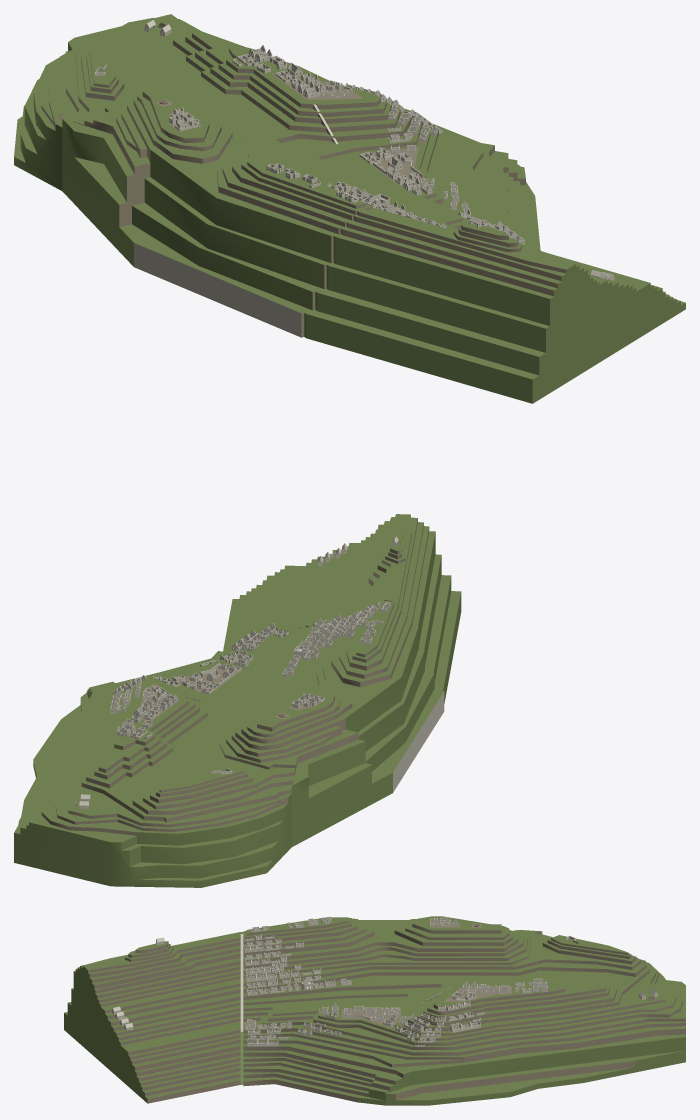
Rendered from citadel.glb.
3 views of the same model, one above another, from view 1: azimuth 30°, elevation 25°; view 2: azimuth 150°, elevation 25°; view 3: azimuth 270°, elevation 25° (orthographic). The views are drawn at different scales.
Parts seen in each view (by area): view 1: site-grass-GDLM1, site-earth-GDLM2, site-stone-GDLM6, site-earth-GDLM8; view 2: site-grass-GDLM1, site-earth-GDLM2, site-stone-GDLM6, site-earth-GDLM8; view 3: site-grass-GDLM1, site-earth-GDLM2, site-stone-GDLM6, site-earth-GDLM8, site-stone-GDLM4.
Part boxes in pixels (box(x1,y1,x2,y2)): site-grass-GDLM1: box(14, 14, 685, 403); site-earth-GDLM2: box(41, 33, 566, 337); site-stone-GDLM6: box(94, 24, 614, 337); site-earth-GDLM8: box(156, 70, 427, 185); site-grass-GDLM1: box(14, 514, 461, 887); site-earth-GDLM2: box(23, 518, 429, 835); site-stone-GDLM6: box(79, 540, 444, 809); site-earth-GDLM8: box(136, 663, 321, 720); site-grass-GDLM1: box(64, 916, 685, 1105); site-earth-GDLM2: box(88, 921, 685, 1103); site-stone-GDLM6: box(112, 916, 657, 1046); site-earth-GDLM8: box(341, 919, 511, 1027); site-stone-GDLM4: box(240, 934, 243, 1031).
Bounding box in the file's own units: 292 × 83.45 × 531.
